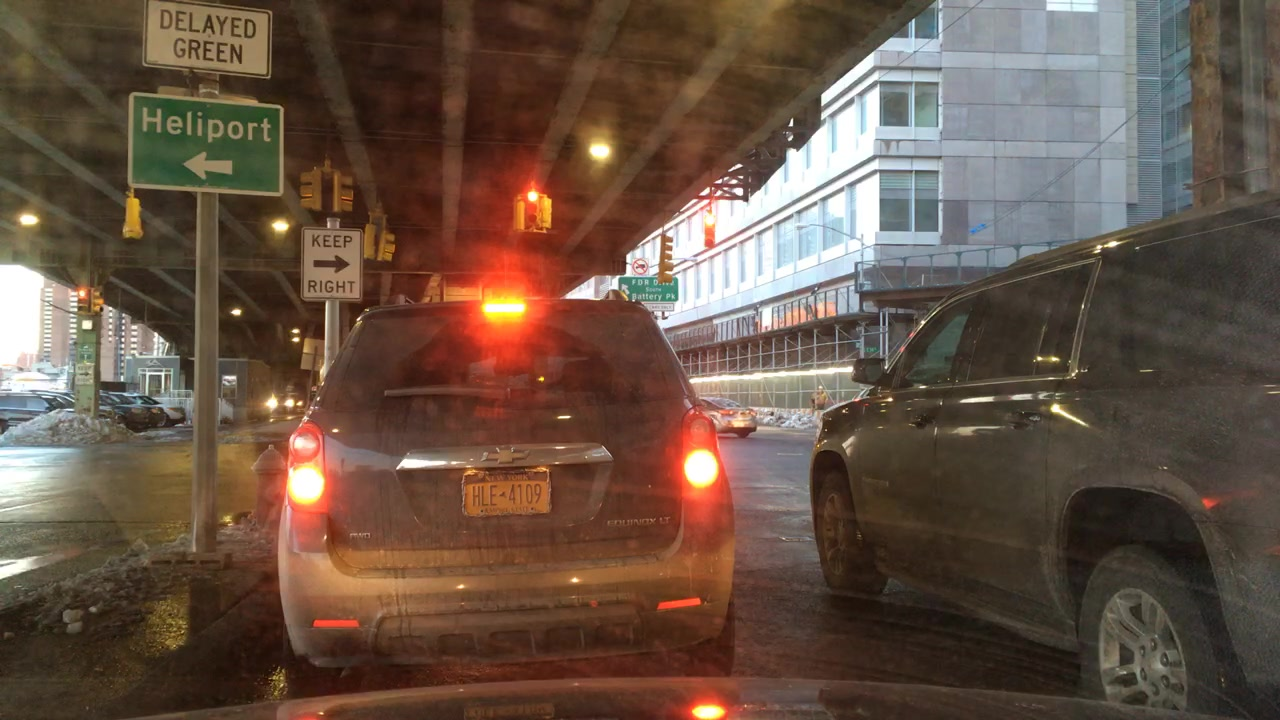licence: (459, 467, 554, 517)
